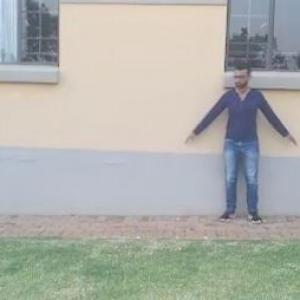land: (184, 65, 296, 236)
